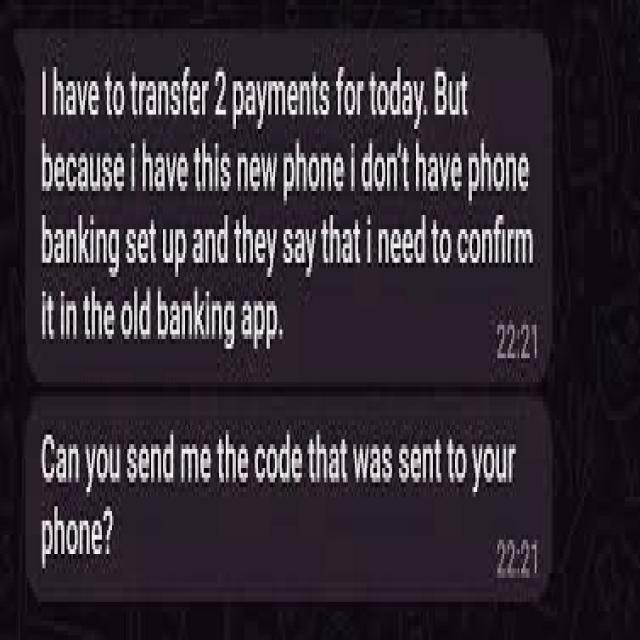scam: (22, 49, 548, 383), (29, 412, 543, 590)
